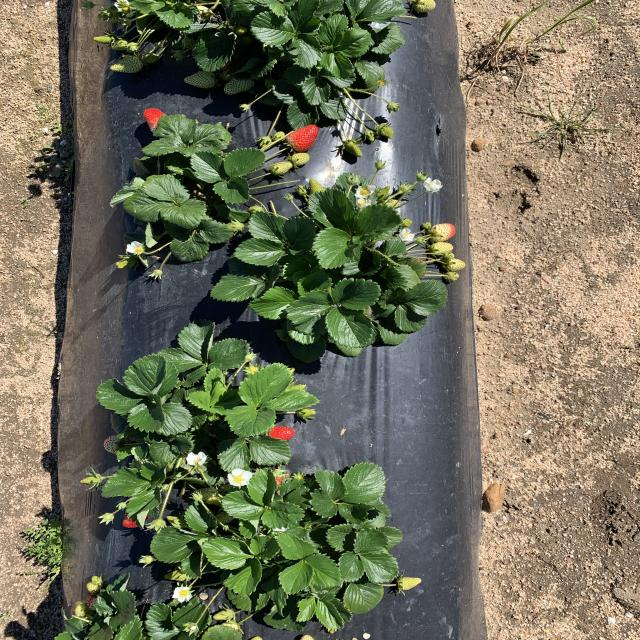unripe: (287, 123, 319, 152), (143, 108, 171, 135), (118, 508, 151, 528), (269, 426, 295, 441)
